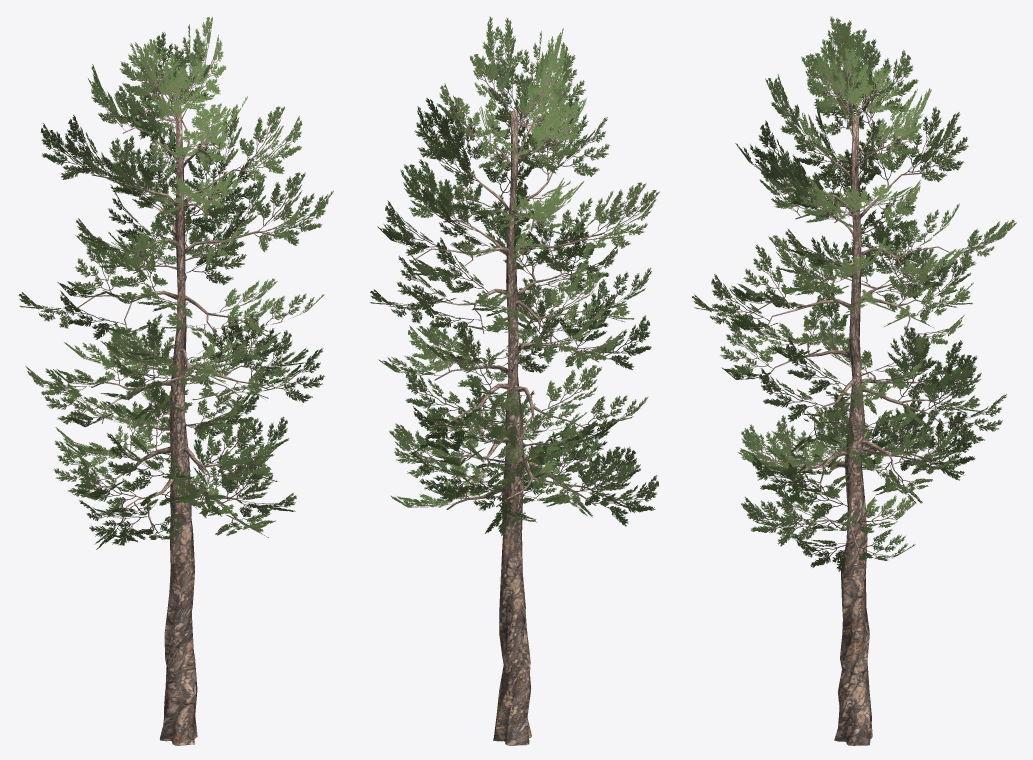
File: PineTree.gltf
3 renders of one model, left to right at view 1: azimuth 30°, elevation 25°; view 2: azimuth 150°, elevation 25°; view 3: azimuth 270°, elevation 25°, orthographic.
Parts seen in each view (by area): view 1: Tree_1, Tree_0; view 2: Tree_1, Tree_0; view 3: Tree_1, Tree_0.
Boxes of the visible parts, x1,y1,x2,y2 form: Tree_1: [18, 17, 333, 549]; Tree_0: [76, 84, 275, 745]; Tree_1: [370, 16, 659, 535]; Tree_0: [412, 92, 602, 745]; Tree_1: [692, 16, 1016, 573]; Tree_0: [749, 95, 960, 745].
Size of the model in its own units: 2.14 by 5.46 by 2.3.
2 materials, 2 textured.
